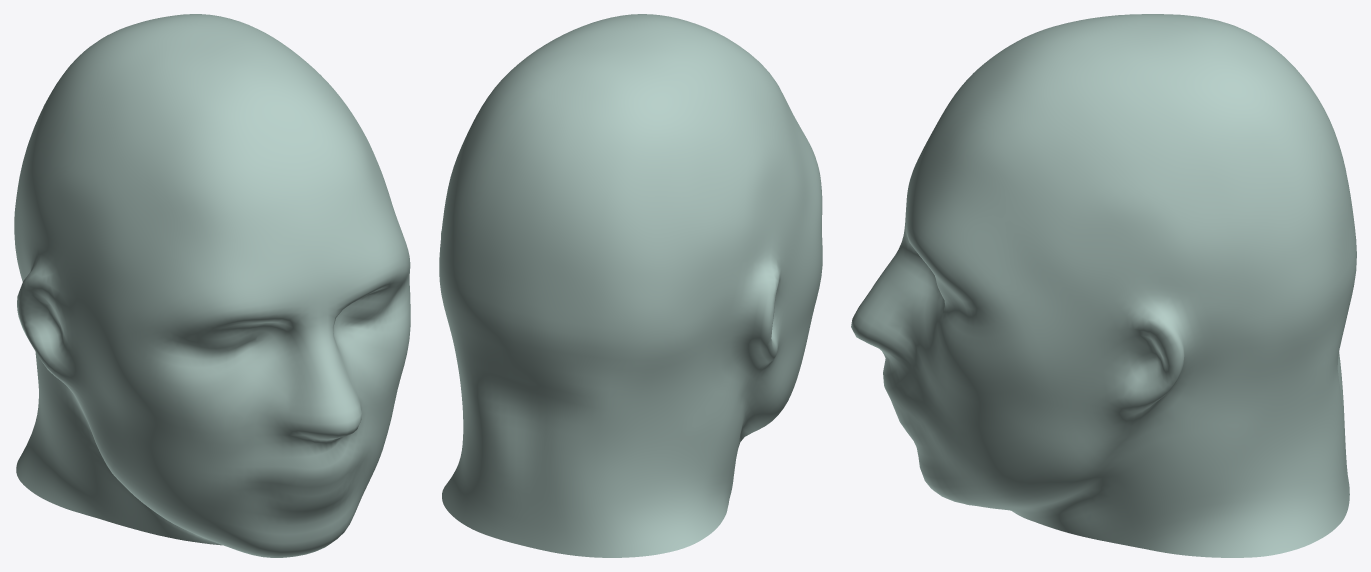
The model's file is head.glb.
3 renders of one model, left to right at view 1: azimuth 30°, elevation 25°; view 2: azimuth 150°, elevation 25°; view 3: azimuth 270°, elevation 25°, orthographic. The views are drawn at different scales.
Visible parts, largest first — view 1: HRA_head_skin; view 2: HRA_head_skin; view 3: HRA_head_skin.
Part boxes in pixels (<box>): HRA_head_skin: <box>14,14,410,557</box>; HRA_head_skin: <box>439,14,822,557</box>; HRA_head_skin: <box>851,14,1356,557</box>.
Bounding box in the file's own units: 2.18 × 2.75 × 2.74.
